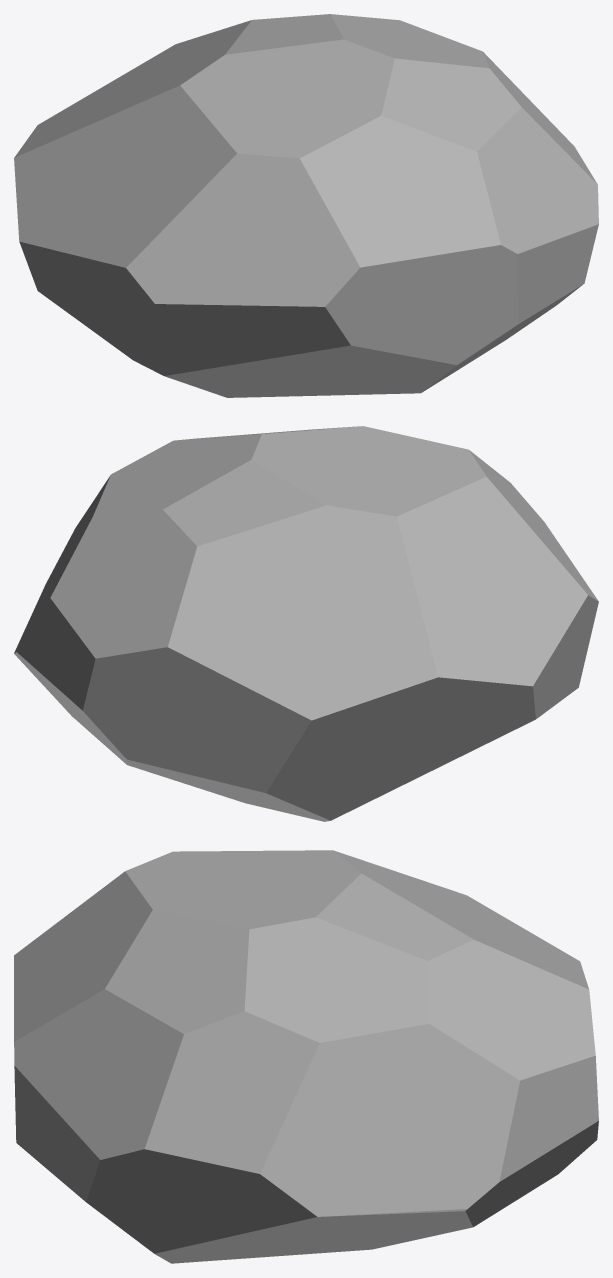
Rendered from Rock_Round_m_09.fbx.
3 renders of one model, top to bottom at view 1: azimuth 30°, elevation 25°; view 2: azimuth 150°, elevation 25°; view 3: azimuth 270°, elevation 25°, orthographic. The views are drawn at different scales.
Parts seen in each view (by area): view 1: Rock_Round_m_09; view 2: Rock_Round_m_09; view 3: Rock_Round_m_09.
Boxes of the visible parts, box(x1,y1,x2,y2) form: Rock_Round_m_09: box(14, 14, 598, 397); Rock_Round_m_09: box(14, 426, 598, 821); Rock_Round_m_09: box(14, 850, 598, 1263).
Size of the model in its own units: 151 by 77.57 by 139.
